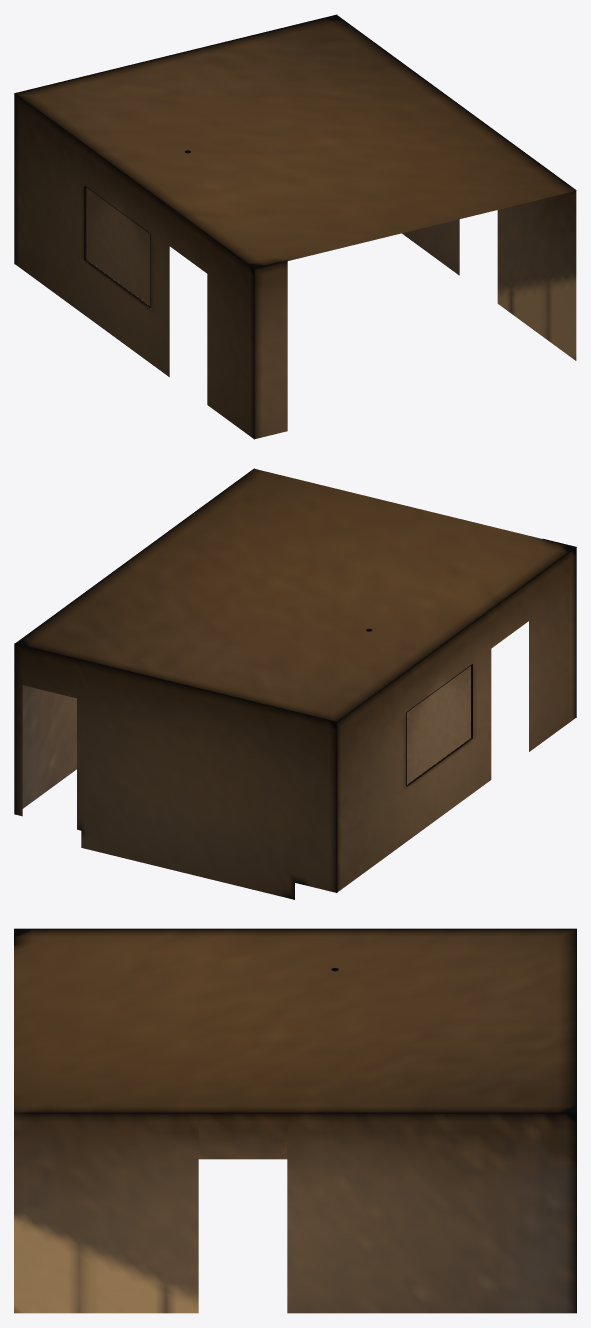
File: landing.glb
3 renders of one model, top to bottom at view 1: azimuth 30°, elevation 25°; view 2: azimuth 150°, elevation 25°; view 3: azimuth 270°, elevation 25°, orthographic. The views are drawn at different scales.
Visible parts, largest first — view 1: landing__roof__vtx, landing__upper__vtx; view 2: landing__upper__vtx, landing__roof__vtx; view 3: landing__roof__vtx, landing__upper__vtx.
Part boxes in pixels (left/top/right/bottom): landing__roof__vtx: left=15, top=15, right=576, bottom=269; landing__upper__vtx: left=14, top=14, right=576, bottom=439; landing__upper__vtx: left=14, top=468, right=576, bottom=899; landing__roof__vtx: left=15, top=469, right=576, bottom=722; landing__roof__vtx: left=14, top=929, right=576, bottom=1113; landing__upper__vtx: left=14, top=928, right=576, bottom=1313.
Bounding box in the file's own units: 5.93 × 3.3 × 7.62.
